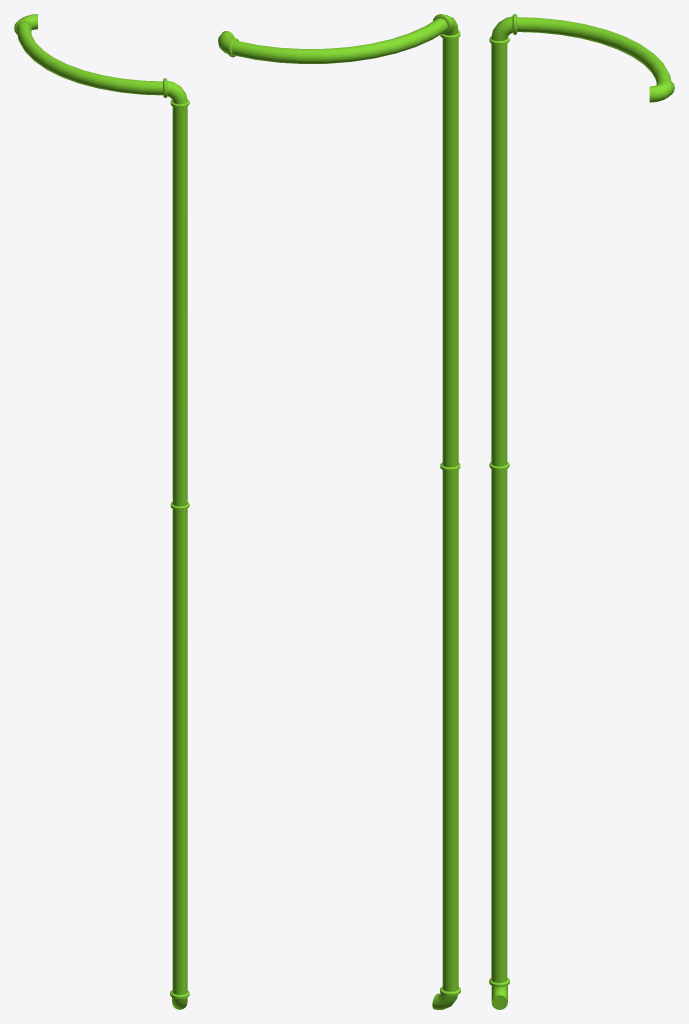
The model's file is Tank_Pipe_01_Lod0.fbx.
3 renders of one model, left to right at view 1: azimuth 90°, elevation 25°; view 2: azimuth 150°, elevation 25°; view 3: azimuth 270°, elevation 25°, orthographic. The views are drawn at different scales.
Visible parts, largest first — view 1: Tank_Pipe_01_Lod0; view 2: Tank_Pipe_01_Lod0; view 3: Tank_Pipe_01_Lod0.
Part boxes in pixels (x1=…): Tank_Pipe_01_Lod0: x1=14, y1=14, x2=189, y2=1009; Tank_Pipe_01_Lod0: x1=218, y1=14, x2=460, y2=1009; Tank_Pipe_01_Lod0: x1=489, y1=14, x2=674, y2=1009.
Bounding box in the file's own units: 1091 × 6436 × 1096.
